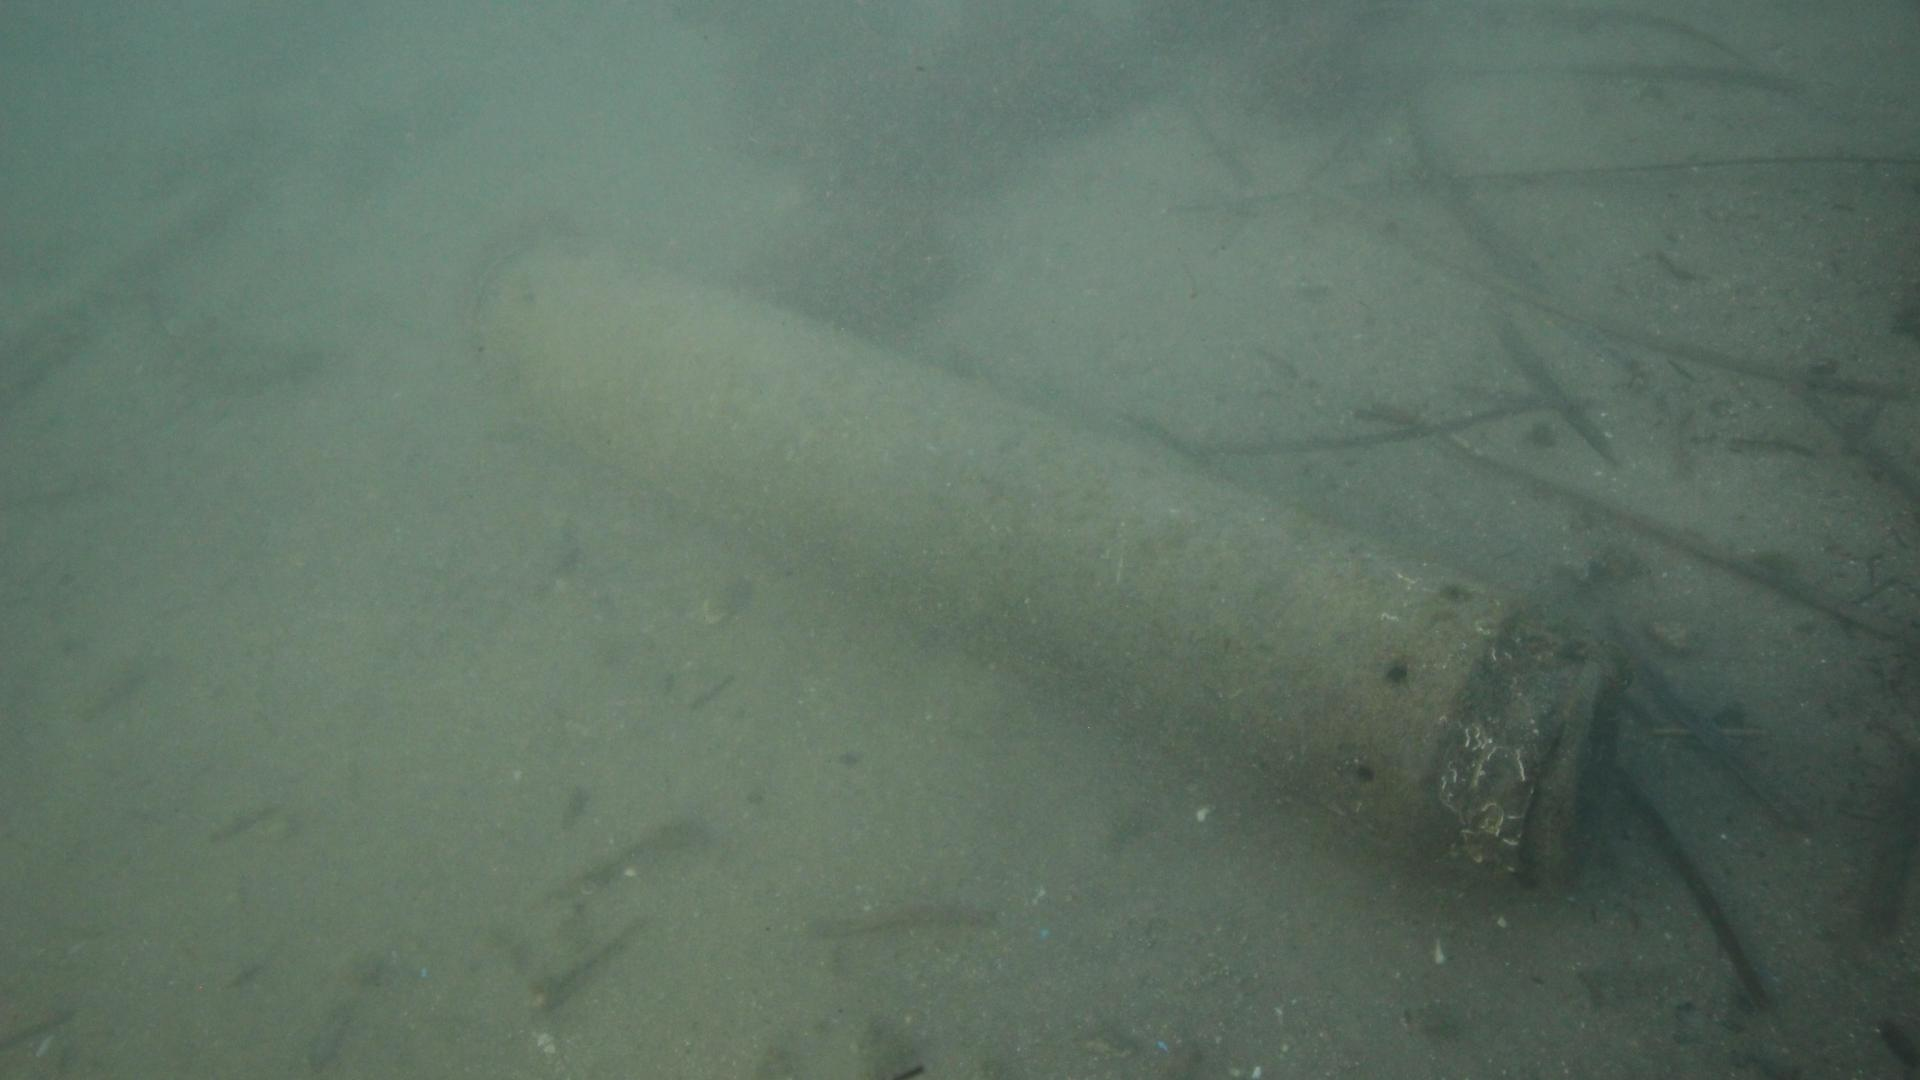eel fish trap: (471, 233, 1625, 906)
